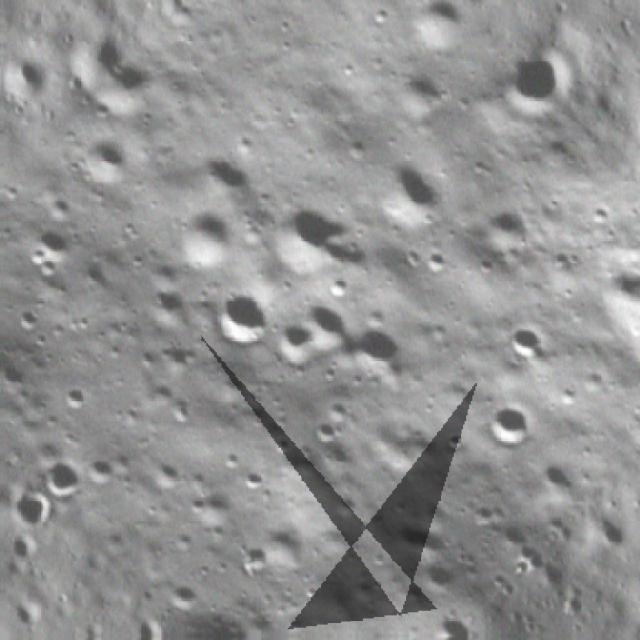crater: (256, 193, 366, 304), (158, 196, 250, 286), (364, 149, 454, 240), (177, 132, 266, 220), (197, 278, 280, 362), (332, 310, 416, 393), (578, 242, 640, 348), (96, 48, 172, 124), (465, 190, 541, 265), (242, 516, 316, 590), (394, 0, 474, 63), (472, 396, 542, 467), (381, 64, 450, 134), (67, 127, 136, 196), (384, 504, 453, 573), (292, 292, 359, 359), (263, 312, 328, 377), (18, 218, 80, 279), (31, 453, 89, 512), (405, 551, 464, 609), (137, 282, 191, 336), (135, 449, 187, 502), (224, 536, 276, 586), (497, 322, 548, 372), (73, 450, 119, 496), (46, 378, 91, 422), (414, 242, 458, 284), (162, 577, 204, 620), (324, 489, 364, 529), (463, 496, 503, 536), (5, 303, 44, 342), (304, 414, 341, 452), (318, 394, 356, 431), (463, 254, 500, 291), (236, 468, 270, 502), (437, 430, 469, 462), (0, 318, 9, 414)
